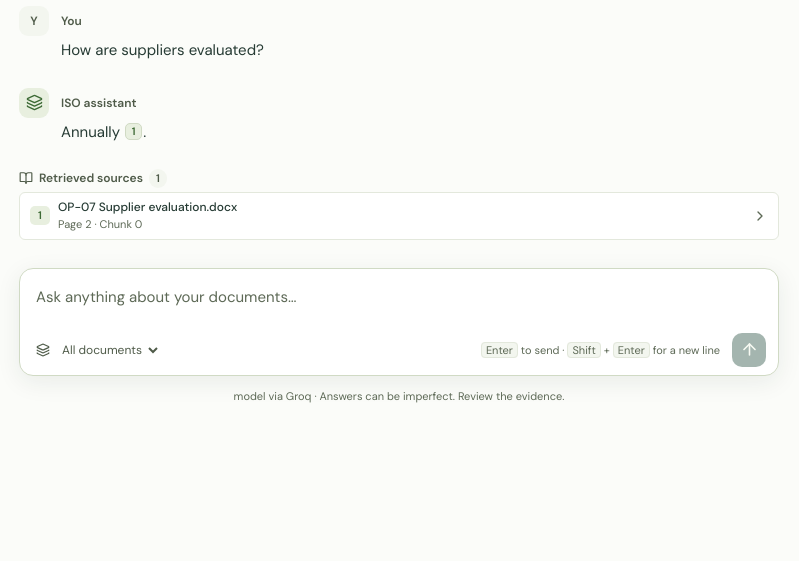
Test: ChatView › expands the cited source when a citation is clicked
Click the button named "Show source 1". click: {"x": 134, "y": 131}
box: [125,123,142,140]
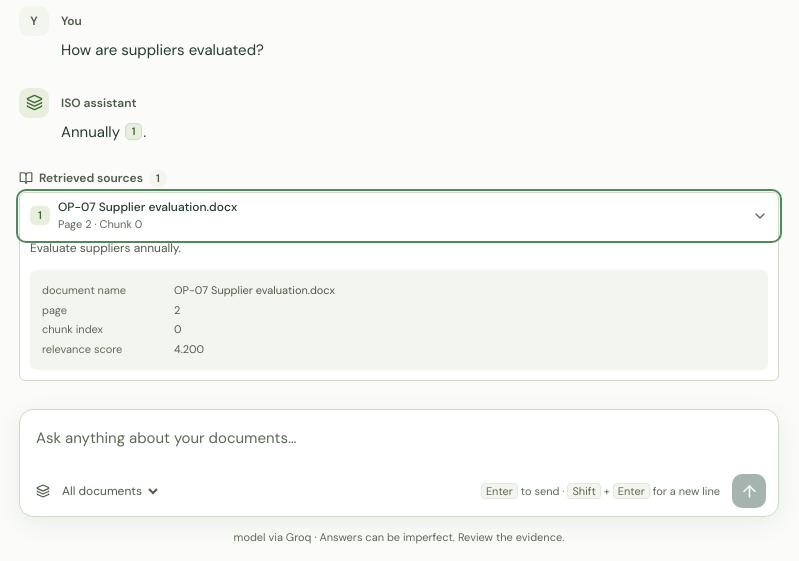
Check: the button "1 OP-07 Supplier evaluation.docx Page 2 · Chunk 0" is expanded, box [20,192,778,239]
Check: the text "Evaluate suppliers annually." is shown, box [30,240,181,256]
